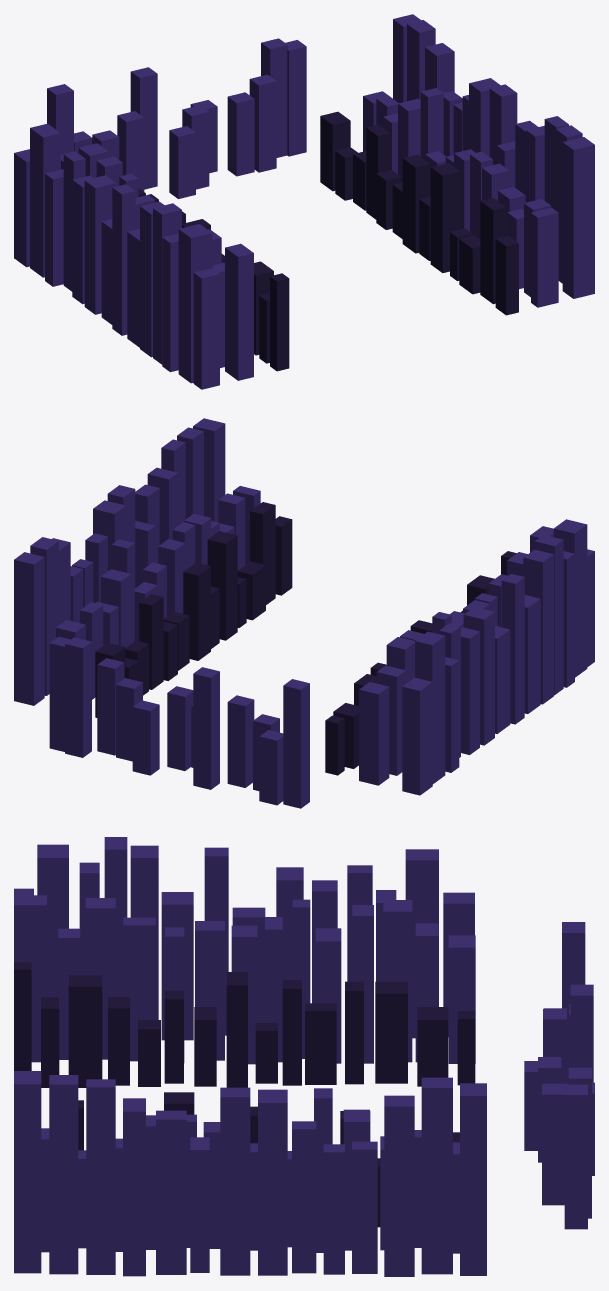
Rendered from Skyline.fbx.
3 renders of one model, top to bottom at view 1: azimuth 30°, elevation 25°; view 2: azimuth 150°, elevation 25°; view 3: azimuth 270°, elevation 25°, orthographic. The views are drawn at different scales.
Visible parts, largest first — view 1: Bldg-1_0_-30.001; view 2: Bldg-1_0_-30.001; view 3: Bldg-1_0_-30.001.
Boxes of the visible parts, <box> form: Bldg-1_0_-30.001: <box>14,14,594,389</box>; Bldg-1_0_-30.001: <box>14,418,594,808</box>; Bldg-1_0_-30.001: <box>14,837,594,1276</box>.
Bounding box in the file's own units: 40895 × 14471 × 40054.
